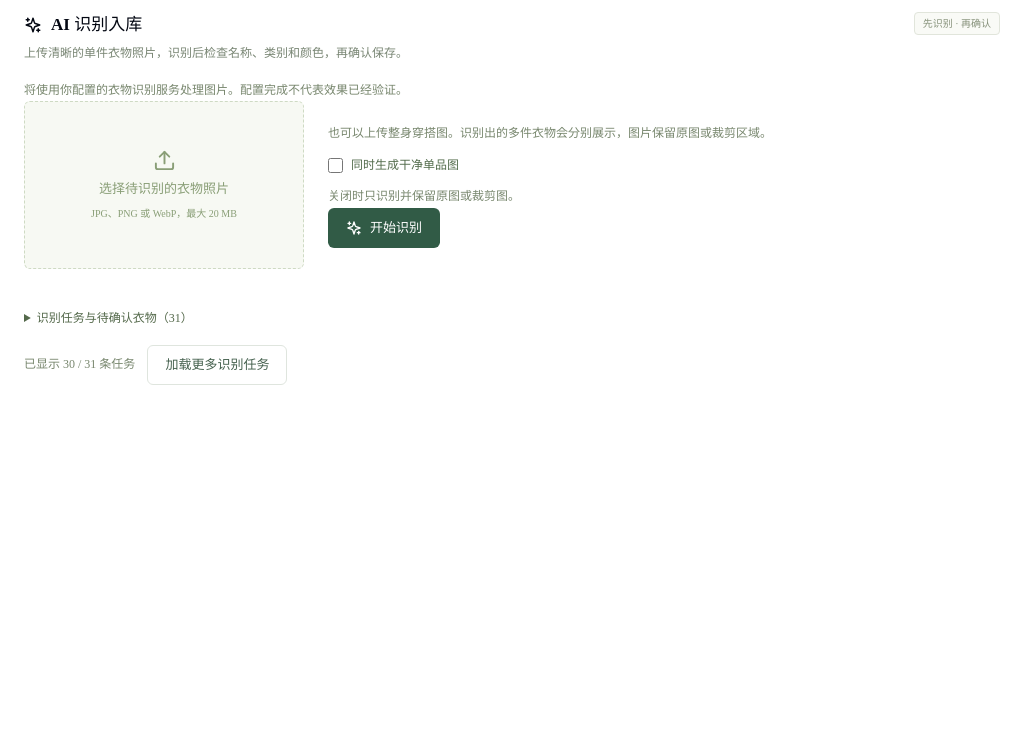
Scenario: AI workbench workflows › loads older recognition candidates beyond the first page
Click the button "加载更多识别任务". click: (217, 365)
box: 147,345 -> 287,385
(page scrolled)
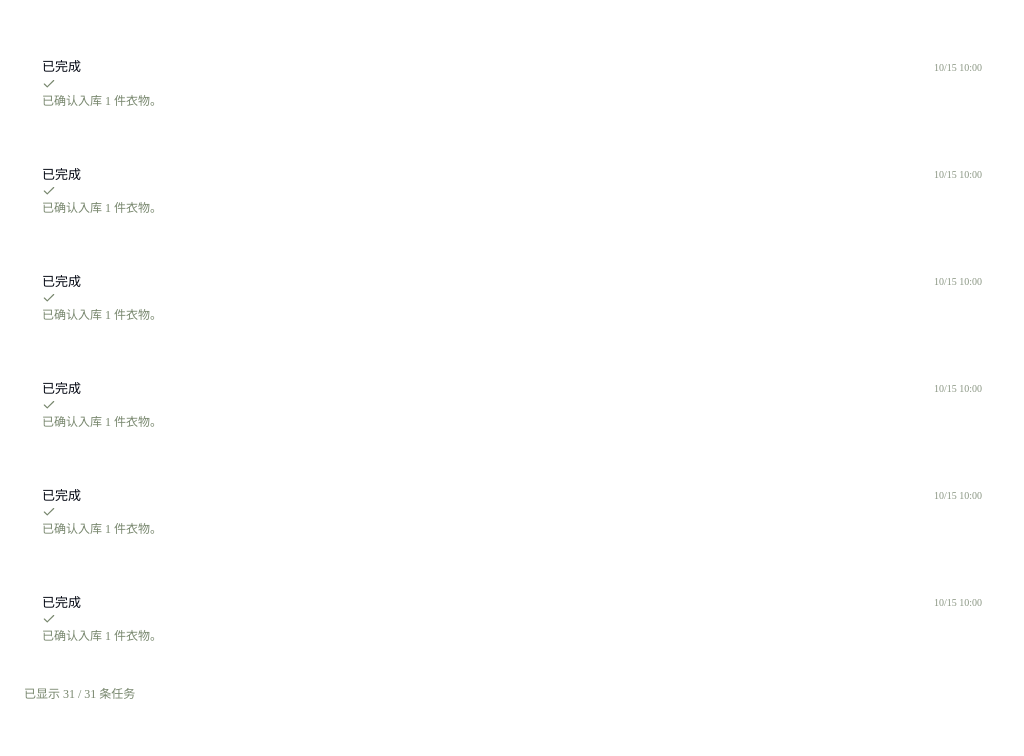
Expected: the text "已显示 31 / 31 条任务" is shown, 24,684 -> 135,706
Expected: the button "加载更多识别任务" is gone
